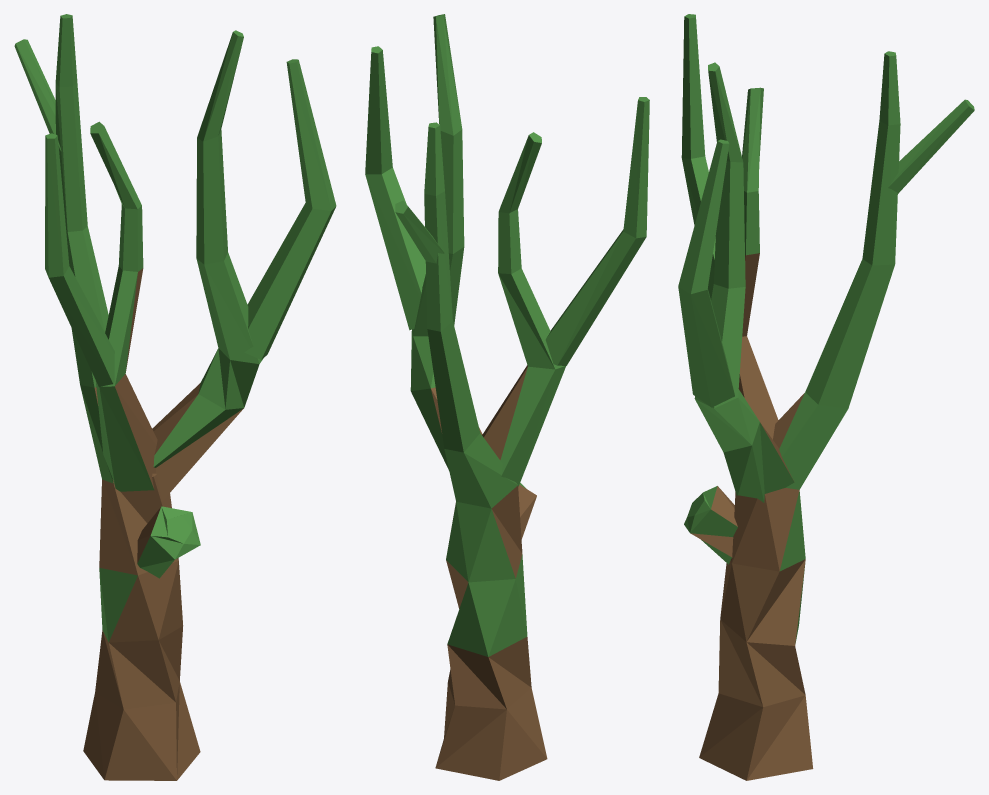
The model's file is tree3d-180.glb.
The picture shows the model from 3 angles, left to right: view 1: azimuth 30°, elevation 25°; view 2: azimuth 150°, elevation 25°; view 3: azimuth 270°, elevation 25°; orthographic projection. The views are drawn at different scales.
Parts seen in each view (by area): view 1: tree3d-180; view 2: tree3d-180; view 3: tree3d-180.
Boxes of the visible parts, box(x1,y1,x2,y2) form: tree3d-180: box(14, 14, 336, 780); tree3d-180: box(365, 14, 649, 780); tree3d-180: box(678, 14, 974, 780).
Size of the model in its own units: 0.4176 by 1 by 0.3699.
